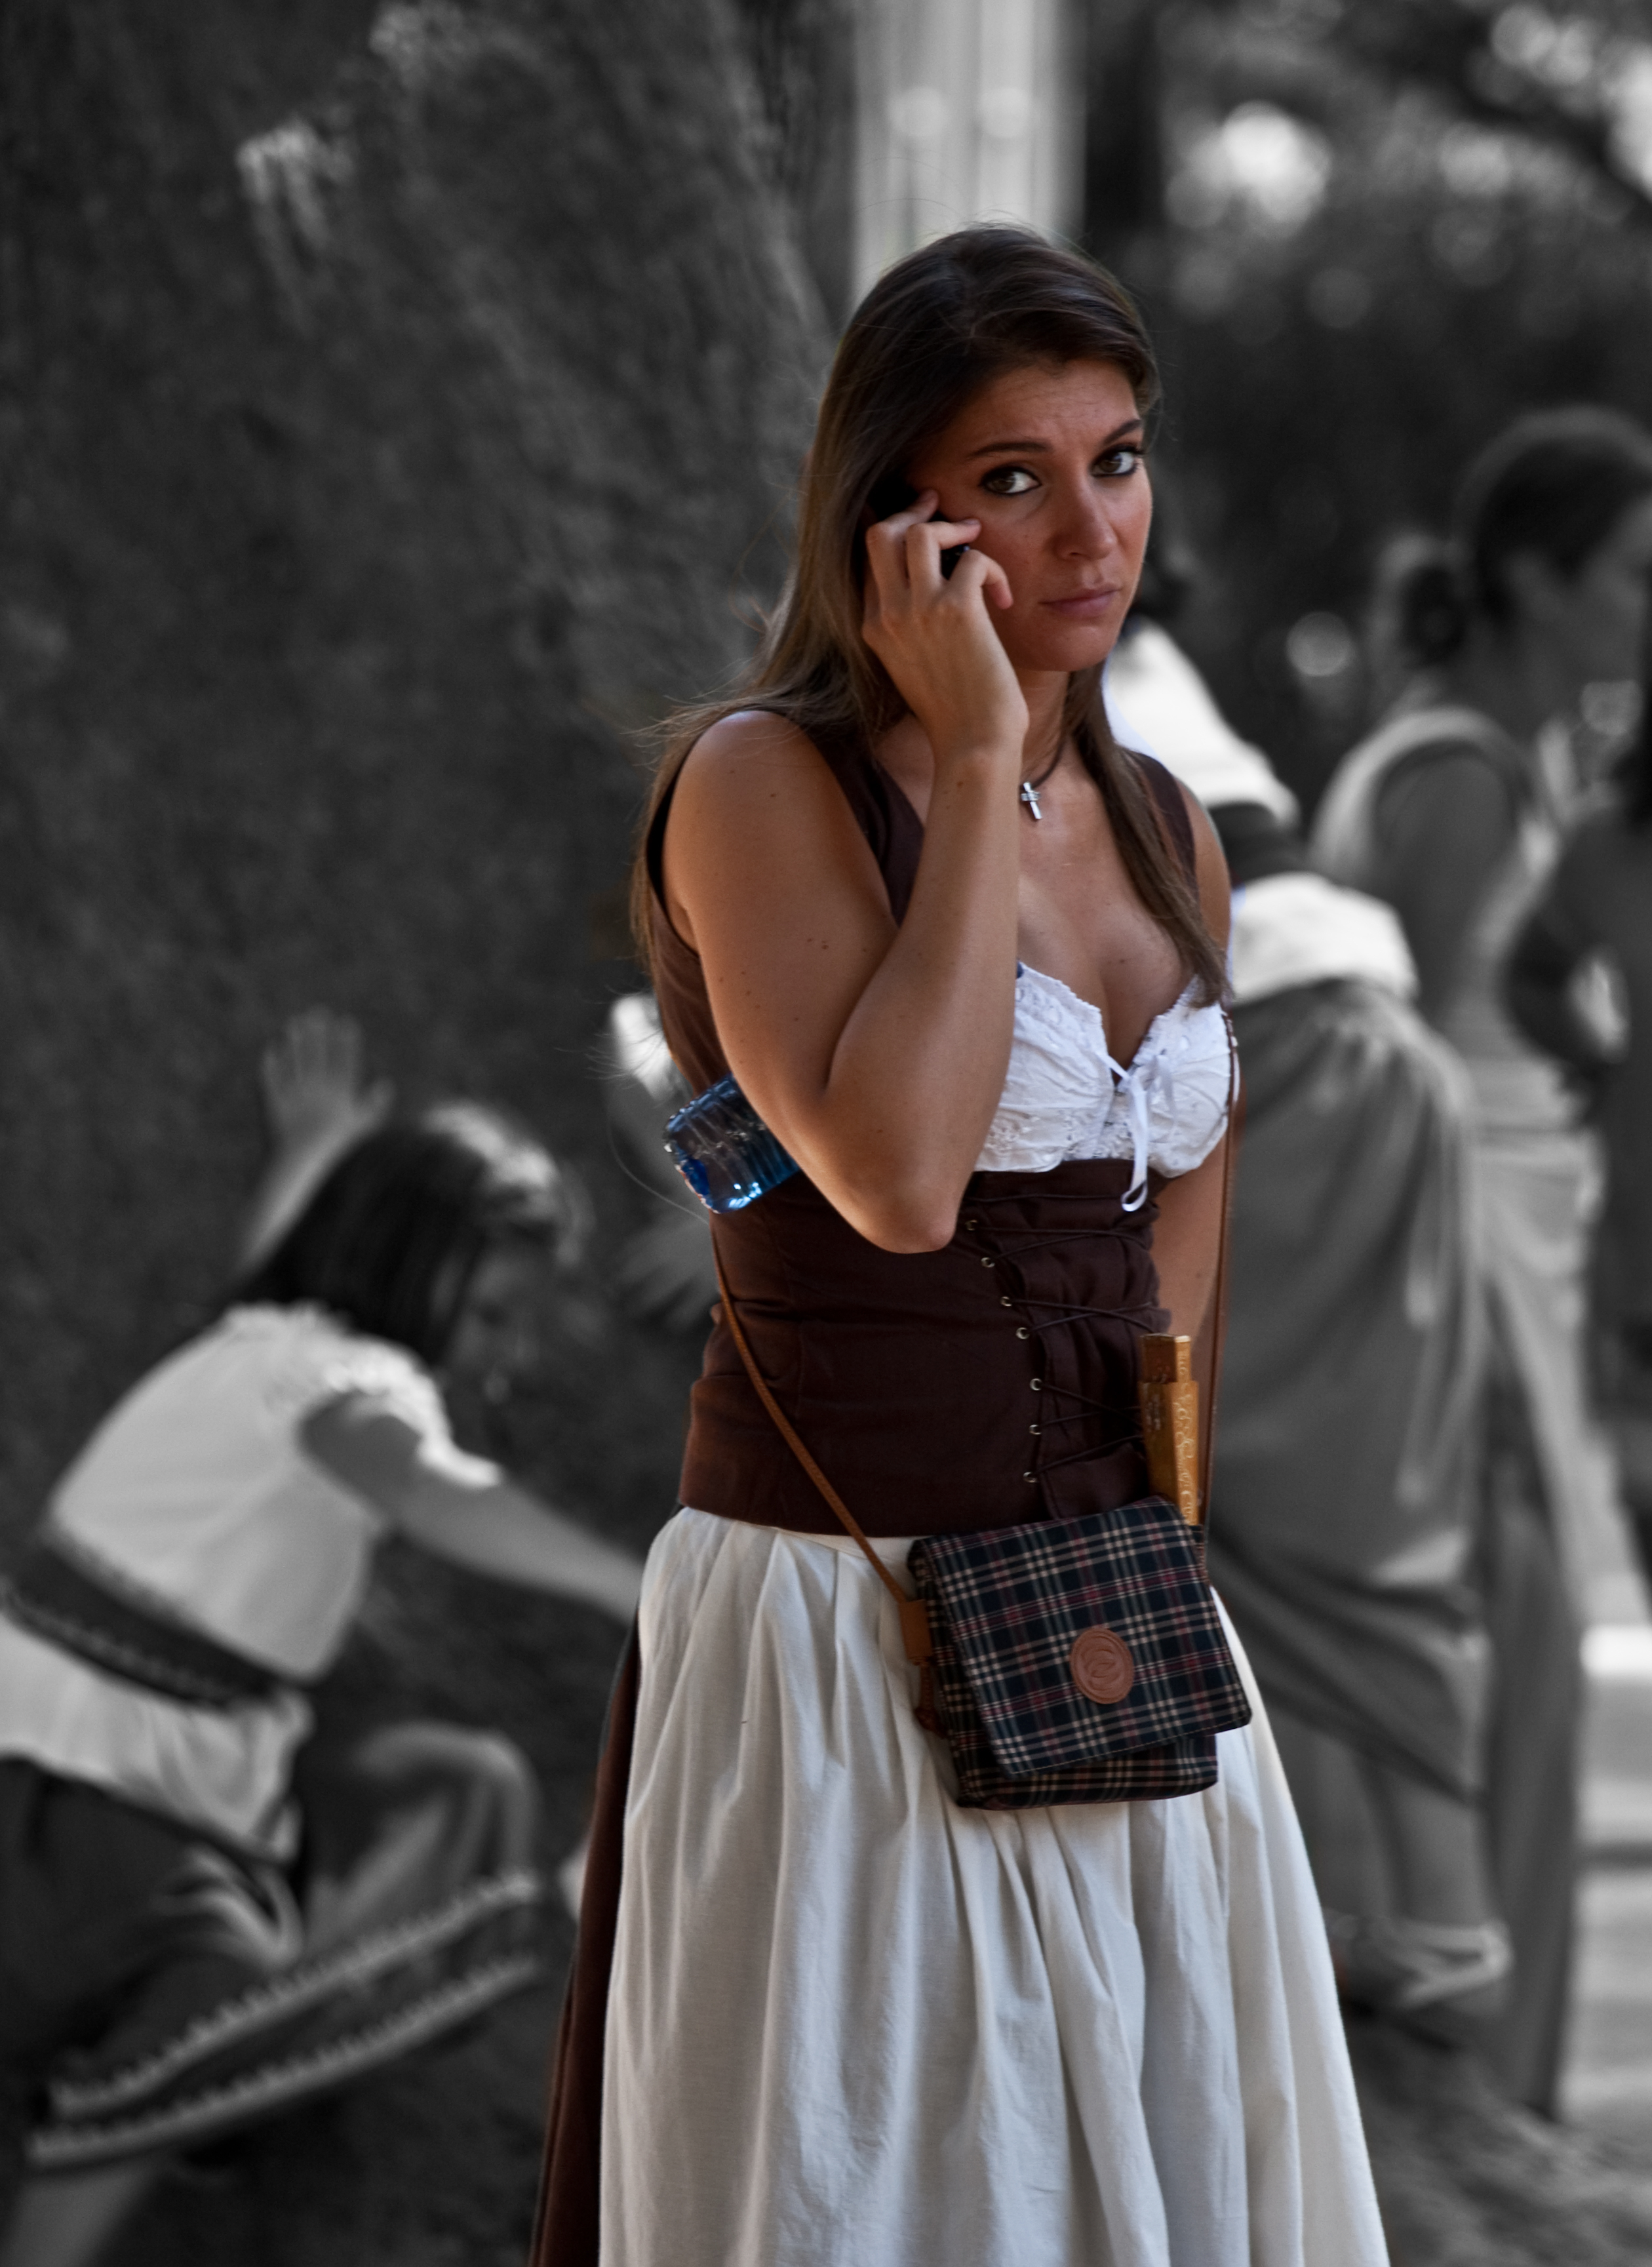phone: (846, 479, 1022, 649)
talk: (822, 304, 1191, 836)
